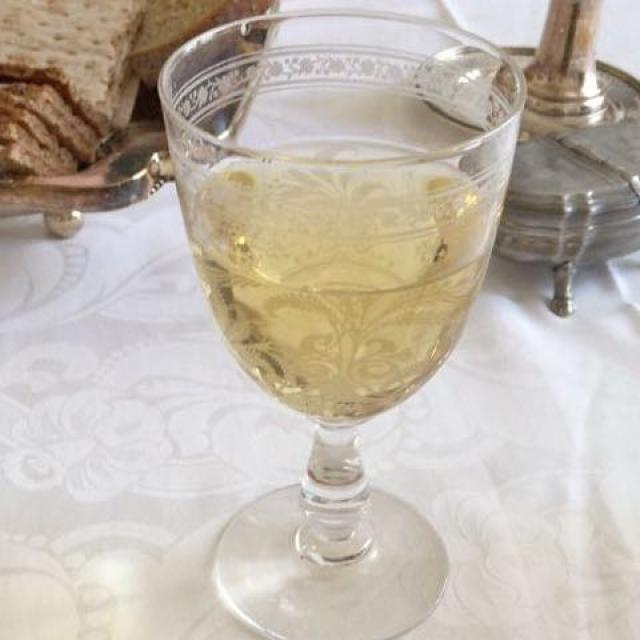wine: (168, 138, 475, 422)
